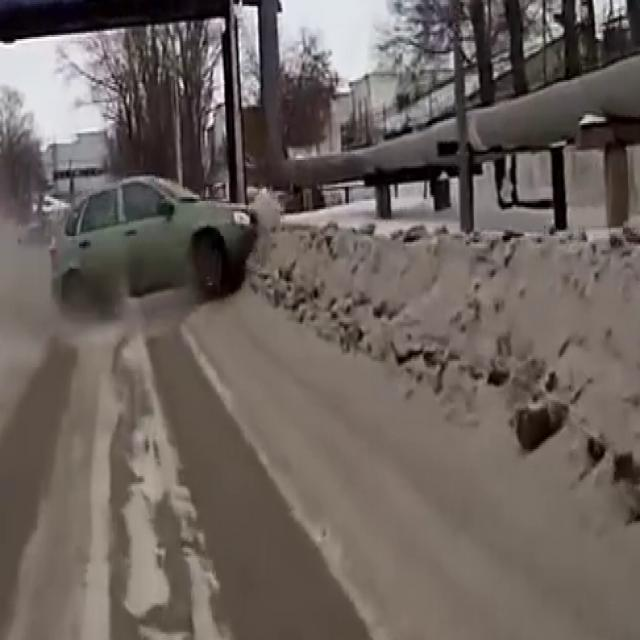accident: (40, 170, 271, 317)
